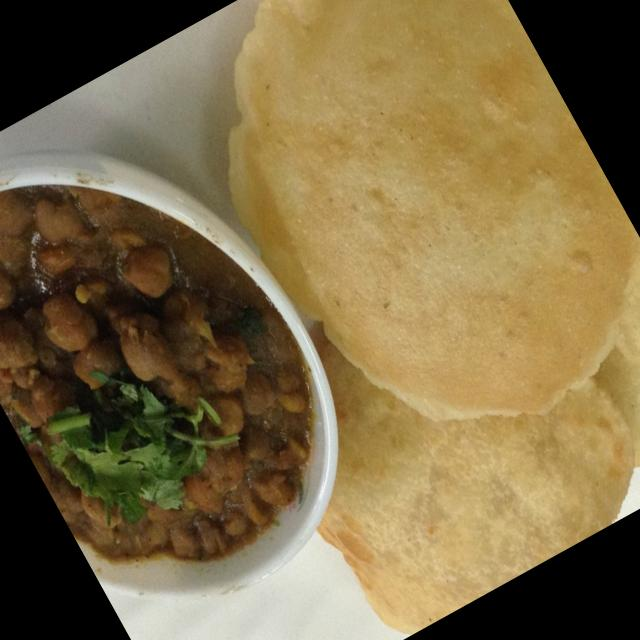Bhatura: (149, 0, 640, 499), (237, 177, 640, 640)
Chole: (0, 103, 363, 628)
